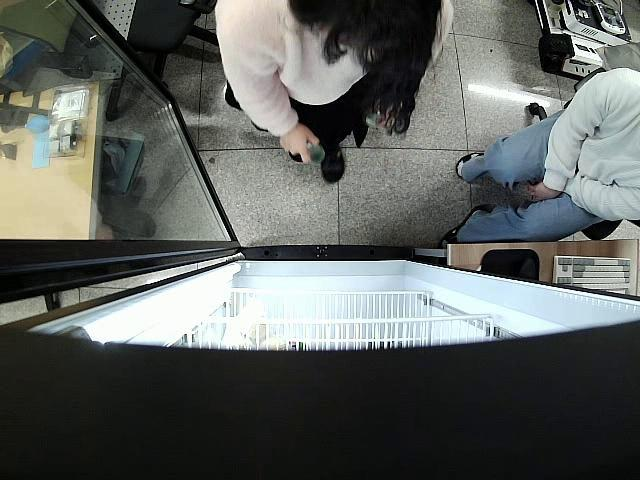18_trevi: (298, 138, 324, 164)
